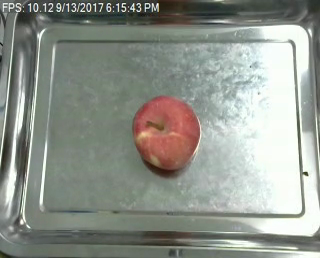Apple: (133, 94, 201, 170)
